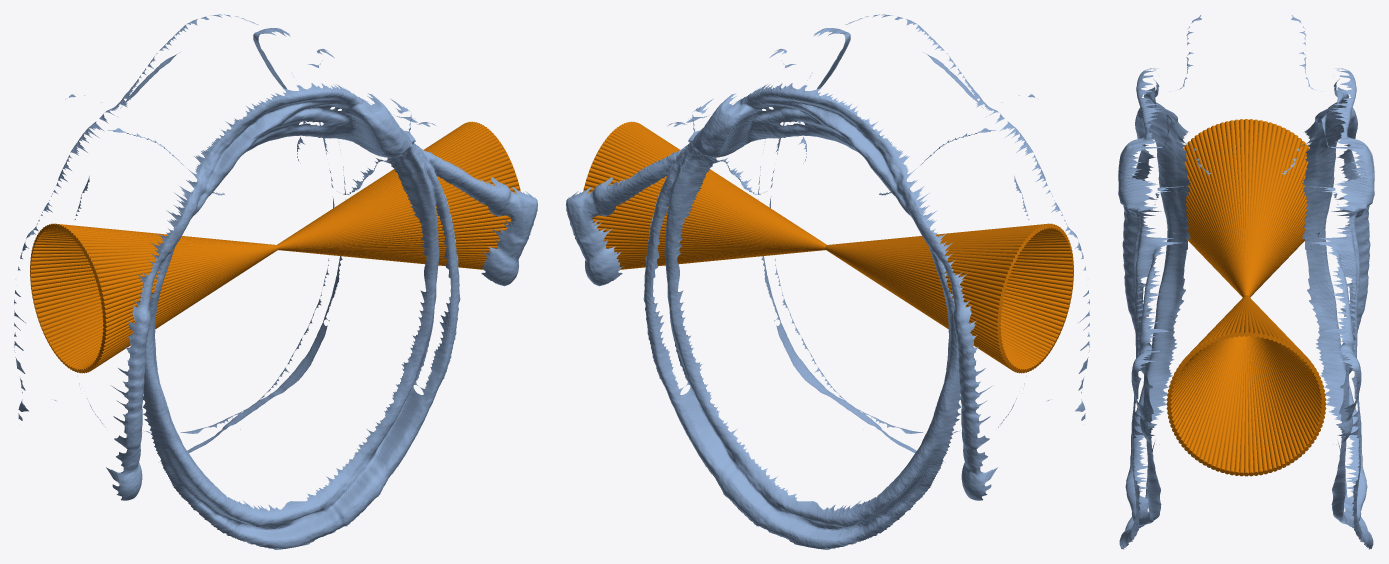
File: A20023618_6145-37-538-8437_DigitalTwin.glb
The picture shows the model from 3 angles, left to right: view 1: azimuth 30°, elevation 25°; view 2: azimuth 150°, elevation 25°; view 3: azimuth 270°, elevation 25°; orthographic projection. The views are drawn at different scales.
Visible parts, largest first — view 1: world; view 2: world; view 3: world.
Boxes of the visible parts, <box> form: world: <box>14,14,537,549</box>; world: <box>566,14,1089,549</box>; world: <box>1118,15,1374,549</box>.
Size of the model in its own units: 390 by 397 by 197.
